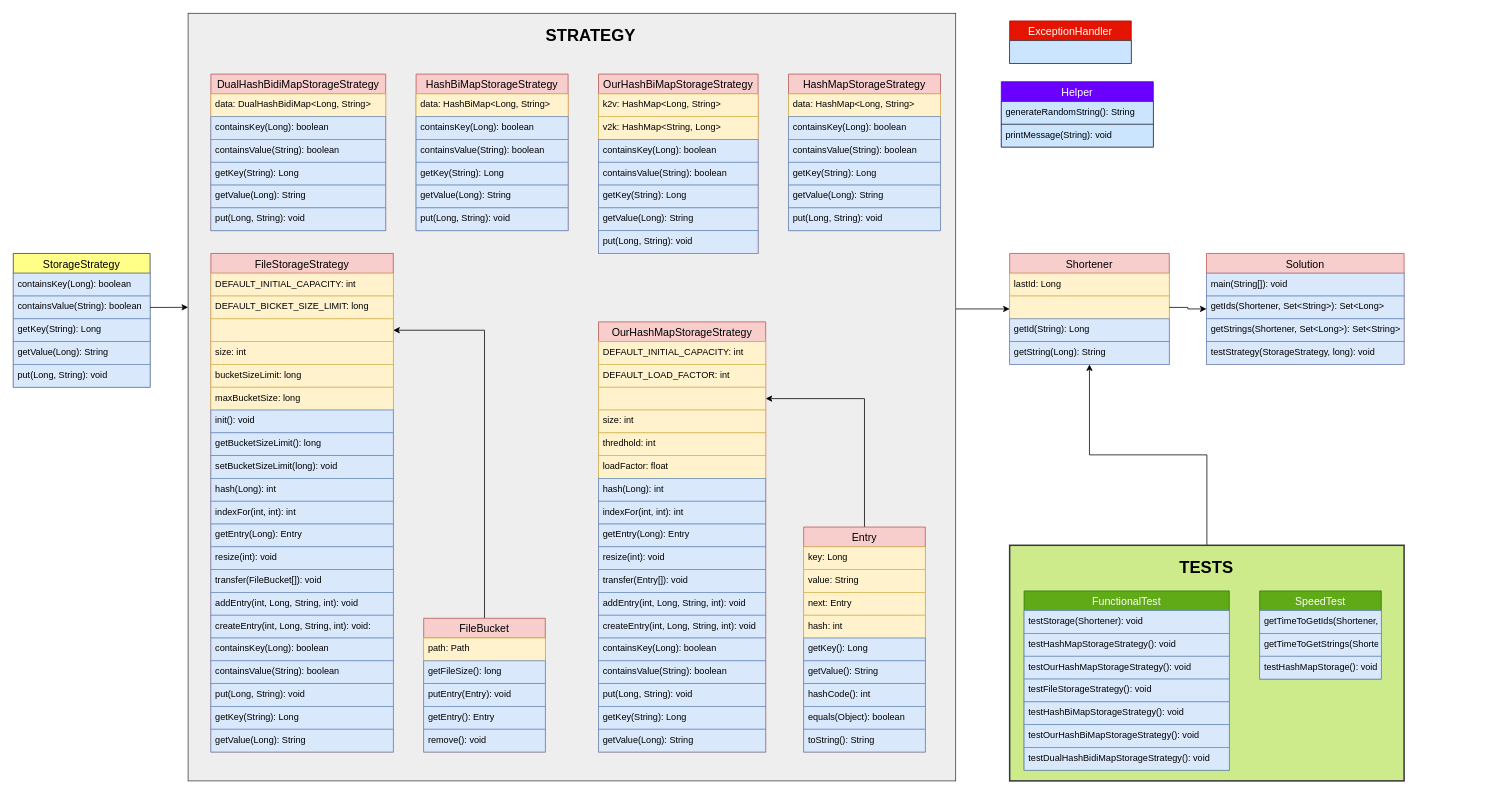
The diagram is 1510 pixels wide and 795 high, and some of its shapes have lost their labels. The shapes that lost their labels are listed below. From the top down, each one's centre as x and y in pixels, then its label:
the point at 1070,51: log(Exception): void
the point at 1089,307: storageStrategy: StorageStrategy
the point at 301,330: table: FileBucket[]
the point at 682,398: table: Entry[]
